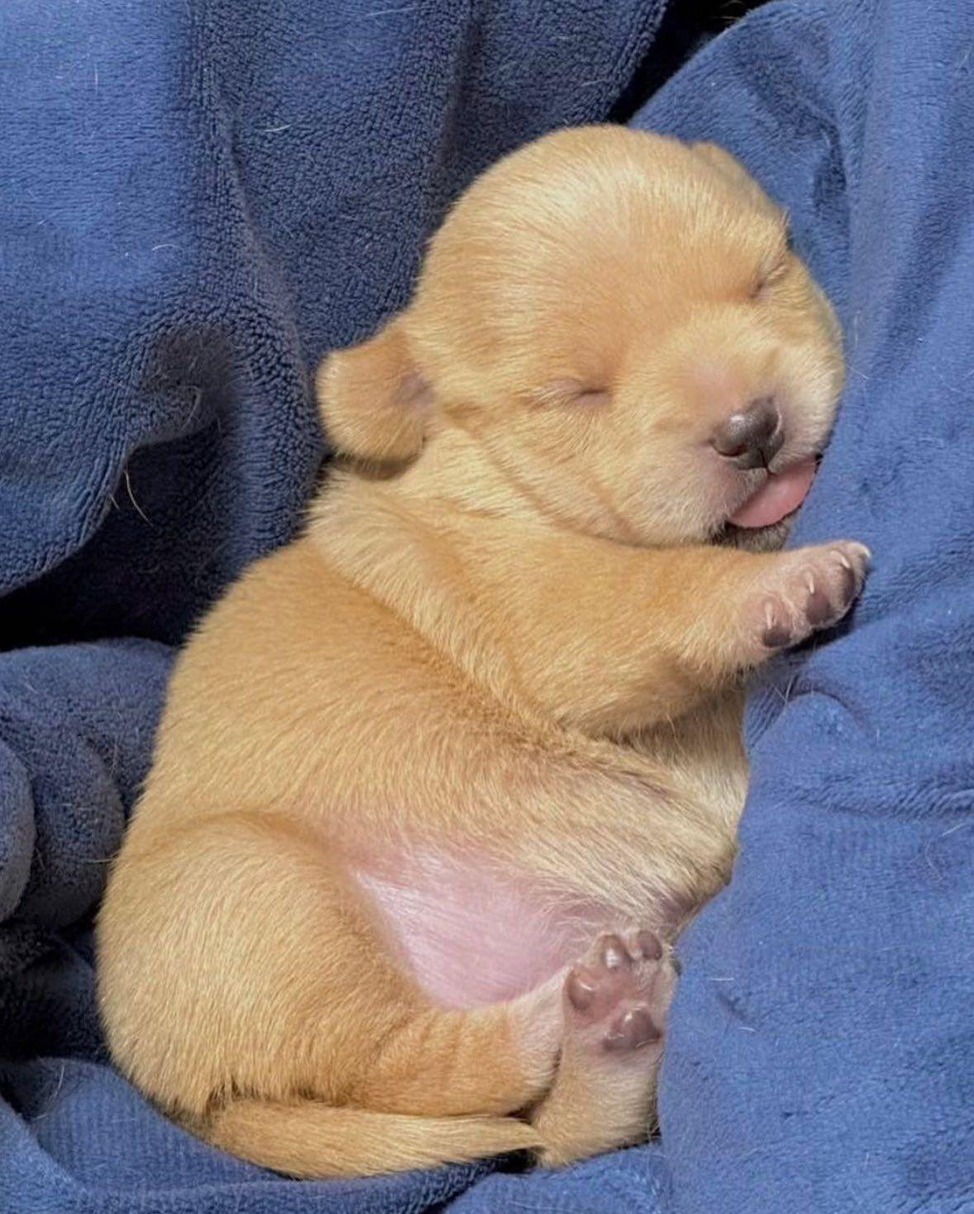puppy-dog: (78, 121, 873, 1188)
